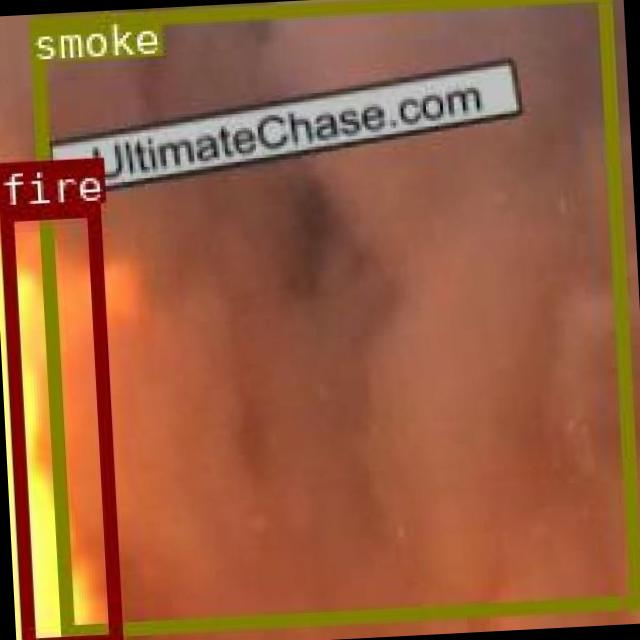fire: (0, 201, 118, 640)
smoke: (28, 0, 639, 635)
